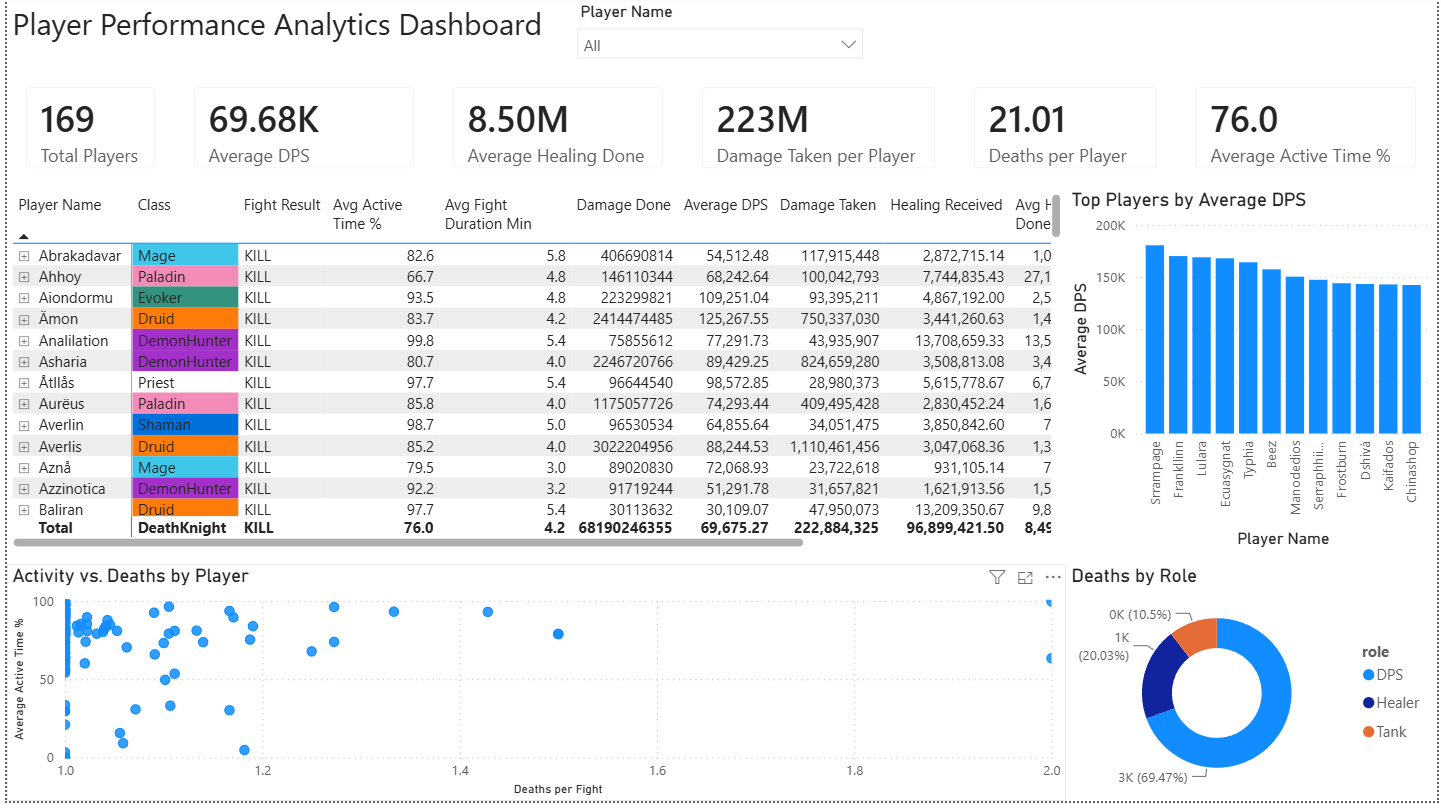

Layout of this report page (visuals, bound fields, positions):
{"tool":"powerbi","page":{"name":"Player Performance","canvas":[1280,720],"ordinal":2},"visuals":[{"type":"slicer","fields":{"Values":["DimPlayer.Player Name"]},"box":[500.6,0,275.8,63.6],"z":0},{"type":"cardVisual","fields":{"Data":["player_fight_master_COMPLETE.Total Players"]},"box":[0,63.6,150.4,107.5],"z":1000},{"type":"cardVisual","fields":{"Data":["player_fight_master_COMPLETE.Average Damage Done"]},"box":[150.4,63.6,231.9,107.5],"z":2000},{"type":"cardVisual","fields":{"Data":["player_fight_master_COMPLETE.Average Healing Done"]},"box":[382.4,63.6,223,107.5],"z":3000},{"type":"cardVisual","fields":{"Data":["player_fight_master_COMPLETE.Damage Taken per Player"]},"box":[605.4,63.6,243.6,107.5],"z":4000},{"type":"cardVisual","fields":{"Data":["player_death_events.Deaths per Player"]},"box":[849,63.6,198.8,107.5],"z":5000},{"type":"cardVisual","fields":{"Data":["player_fight_master_COMPLETE.Average Active Time %"]},"box":[1047.8,63.6,231.9,107.5],"z":6000},{"type":"pivotTable","fields":{"Rows":["DimPlayer.Player Name","DimFight.Fight Name","DimFight.Fight ID"],"Values":["Min(DimPlayer.Class)","Min(DimFight.Fight Result)","player_fight_master_COMPLETE.Average Active Time %","player_fight_master_COMPLETE.Average Fight Duration Minutes","player_fight_master_COMPLETE.Total Damage Done","player_fight_master_COMPLETE.Average DPS","player_fight_master_COMPLETE.Damage Taken per Player","player_healing_received_events_COMPLETE.Healing Received per Player-Fight","player_fight_master_COMPLETE.Average Healing Done","player_death_events.Deaths per Player","player_interrupt_events_FINAL.Interrupts per Player","player_dispel_events_FINAL.Dispels per Player"]},"box":[0,171.1,948.6,326.9],"z":7000},{"type":"clusteredColumnChart","title":"Top Players by Average DPS","fields":{"Category":["DimPlayer.Player Name"],"Y":["player_fight_master_COMPLETE.Average DPS"]},"box":[948.4,171,331.3,326.9],"z":8000},{"type":"donutChart","title":"Deaths by Role","fields":{"Category":["player_fight_master_COMPLETE.role"],"Y":["player_death_events.Deaths by Role"]},"box":[948,508,331,212],"z":9000},{"type":"scatterChart","title":"Activity vs. Deaths by Player","fields":{"Y":["player_fight_master_COMPLETE.Average Active Time %"],"Category":["DimPlayer.Player Name"],"X":["player_death_events.Deaths per Fight"]},"box":[0,507.8,948.4,212.2],"z":10000},{"type":"textbox","box":[0,0,494.3,63.6],"z":11000}]}

Visuals, with their boxes in screenshot pixels (x1, y1, x2, y2), scaled from the page's 1280x720 canvas onto the 1441x808 screenshot:
slicer - DimPlayer.Player Name: 564, 0, 874, 71
cardVisual - player_fight_master_COMPLETE.Total Players: 0, 71, 169, 192
cardVisual - player_fight_master_COMPLETE.Average Damage Done: 169, 71, 430, 192
cardVisual - player_fight_master_COMPLETE.Average Healing Done: 430, 71, 682, 192
cardVisual - player_fight_master_COMPLETE.Damage Taken per Player: 682, 71, 956, 192
cardVisual - player_death_events.Deaths per Player: 956, 71, 1180, 192
cardVisual - player_fight_master_COMPLETE.Average Active Time %: 1180, 71, 1440, 192
pivotTable - DimPlayer.Player Name x DimFight.Fight Name: 0, 192, 1068, 559
"Top Players by Average DPS" clusteredColumnChart: 1068, 192, 1440, 559
"Deaths by Role" donutChart: 1067, 570, 1440, 807
"Activity vs. Deaths by Player" scatterChart: 0, 570, 1068, 807
textbox: 0, 0, 556, 71
